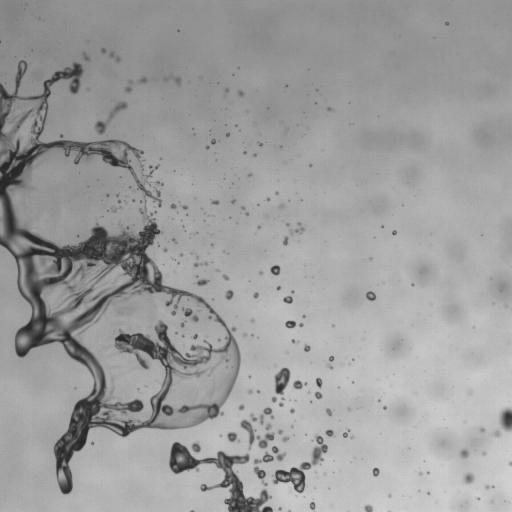droplet: (240, 407, 274, 449), (253, 446, 286, 486), (492, 407, 511, 437), (274, 367, 290, 395), (289, 222, 305, 234), (463, 472, 474, 484), (227, 432, 239, 442), (293, 380, 306, 389), (270, 265, 280, 275), (459, 448, 468, 458), (196, 279, 208, 286), (366, 291, 375, 300), (225, 290, 233, 299), (316, 377, 322, 388), (314, 391, 322, 399), (283, 296, 292, 303), (325, 429, 334, 436), (372, 467, 379, 476), (364, 504, 373, 511), (343, 429, 350, 437), (173, 77, 180, 84), (139, 77, 147, 83), (309, 501, 315, 509), (283, 236, 288, 245), (83, 53, 89, 60), (191, 334, 198, 340), (304, 344, 310, 351), (326, 408, 332, 415), (155, 181, 163, 186), (238, 404, 244, 410), (282, 436, 288, 442), (211, 200, 219, 204), (238, 90, 243, 96), (170, 204, 176, 209), (223, 274, 228, 280), (253, 292, 258, 298), (291, 339, 297, 343), (272, 396, 276, 402), (101, 48, 105, 53), (211, 139, 215, 144), (182, 205, 187, 209), (279, 204, 284, 208), (276, 286, 281, 290), (248, 389, 252, 394), (290, 408, 294, 413), (278, 429, 282, 434), (266, 197, 270, 201), (231, 199, 235, 203), (392, 230, 396, 234), (172, 238, 176, 242), (225, 88, 228, 92), (327, 107, 331, 110), (206, 145, 209, 149), (163, 247, 166, 251), (131, 306, 134, 310), (480, 428, 484, 431), (509, 461, 511, 466), (445, 22, 448, 25), (226, 133, 229, 136), (132, 199, 135, 202), (241, 206, 244, 209), (257, 225, 260, 228), (259, 271, 262, 274), (243, 333, 246, 336), (217, 338, 220, 341), (117, 365, 120, 368), (137, 389, 140, 392), (257, 390, 260, 393), (350, 435, 353, 438), (482, 452, 485, 455), (388, 494, 391, 497), (258, 143, 261, 145), (253, 154, 256, 156), (249, 173, 251, 176), (275, 192, 278, 194), (106, 194, 109, 196), (246, 212, 248, 215), (180, 253, 182, 256), (291, 290, 293, 293), (302, 315, 305, 317), (251, 319, 254, 321), (175, 331, 177, 334), (182, 334, 184, 337), (383, 406, 386, 408), (164, 78, 166, 80), (309, 164, 311, 166), (125, 201, 127, 203), (107, 365, 109, 367), (347, 408, 349, 410), (91, 442, 93, 444), (477, 497, 479, 499)
ligament: (0, 60, 240, 494), (168, 442, 273, 511), (273, 434, 327, 492), (94, 101, 127, 134), (113, 306, 129, 315), (285, 320, 303, 328), (107, 205, 122, 213), (109, 51, 120, 61), (327, 356, 334, 369), (125, 80, 132, 92), (194, 262, 208, 267), (278, 397, 284, 406), (115, 193, 120, 203), (54, 205, 59, 214), (485, 485, 493, 489), (190, 510, 194, 511)
